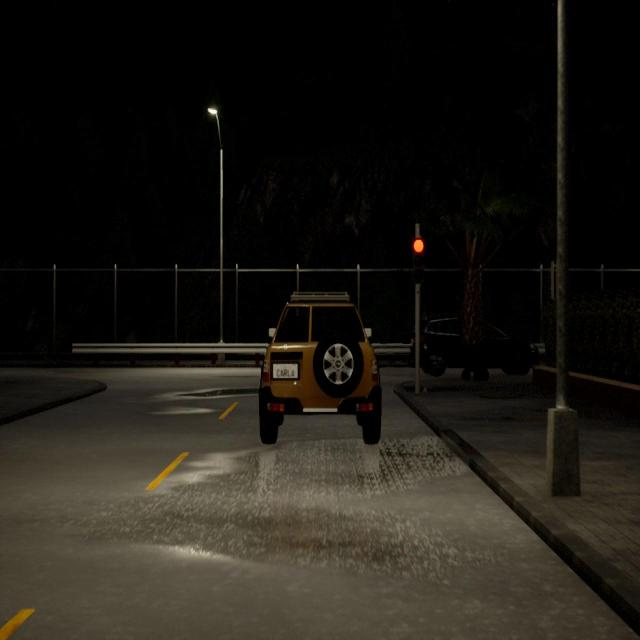Vehicle: (259, 292, 381, 443), (408, 314, 538, 382)
traffic_light: (408, 235, 427, 290)
